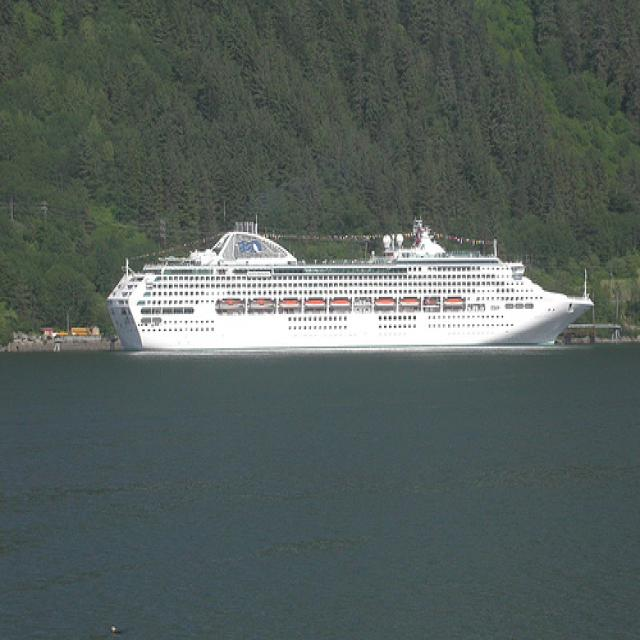boat: (96, 204, 596, 358)
